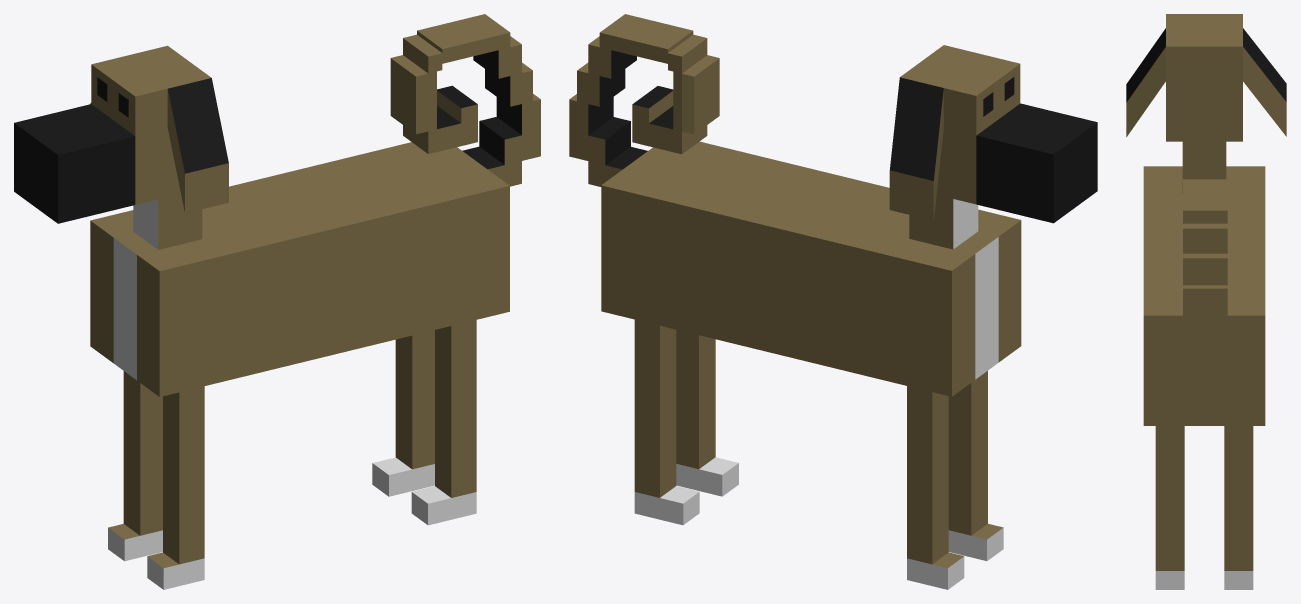
File: Dog.glb
3 renders of one model, left to right at view 1: azimuth 30°, elevation 25°; view 2: azimuth 150°, elevation 25°; view 3: azimuth 270°, elevation 25°, orthographic. The views are drawn at different scales.
Visible parts, largest first — view 1: Malina; view 2: Malina; view 3: Malina.
Part boxes in pixels (x1=…): Malina: x1=14, y1=14, x2=540, y2=589; Malina: x1=569, y1=14, x2=1097, y2=589; Malina: x1=1126, y1=14, x2=1286, y2=589.
Bounding box in the file's own units: 8.19 × 7.86 × 2.64.
